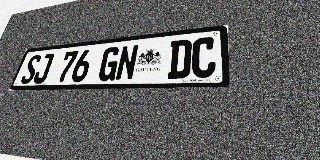6: (70, 49, 94, 82)
7: (55, 51, 79, 83)
C: (191, 36, 216, 78)
D: (167, 39, 192, 79)
G: (97, 46, 121, 81)
J: (32, 53, 55, 84)
N: (115, 44, 139, 81)
S: (19, 54, 42, 84)
